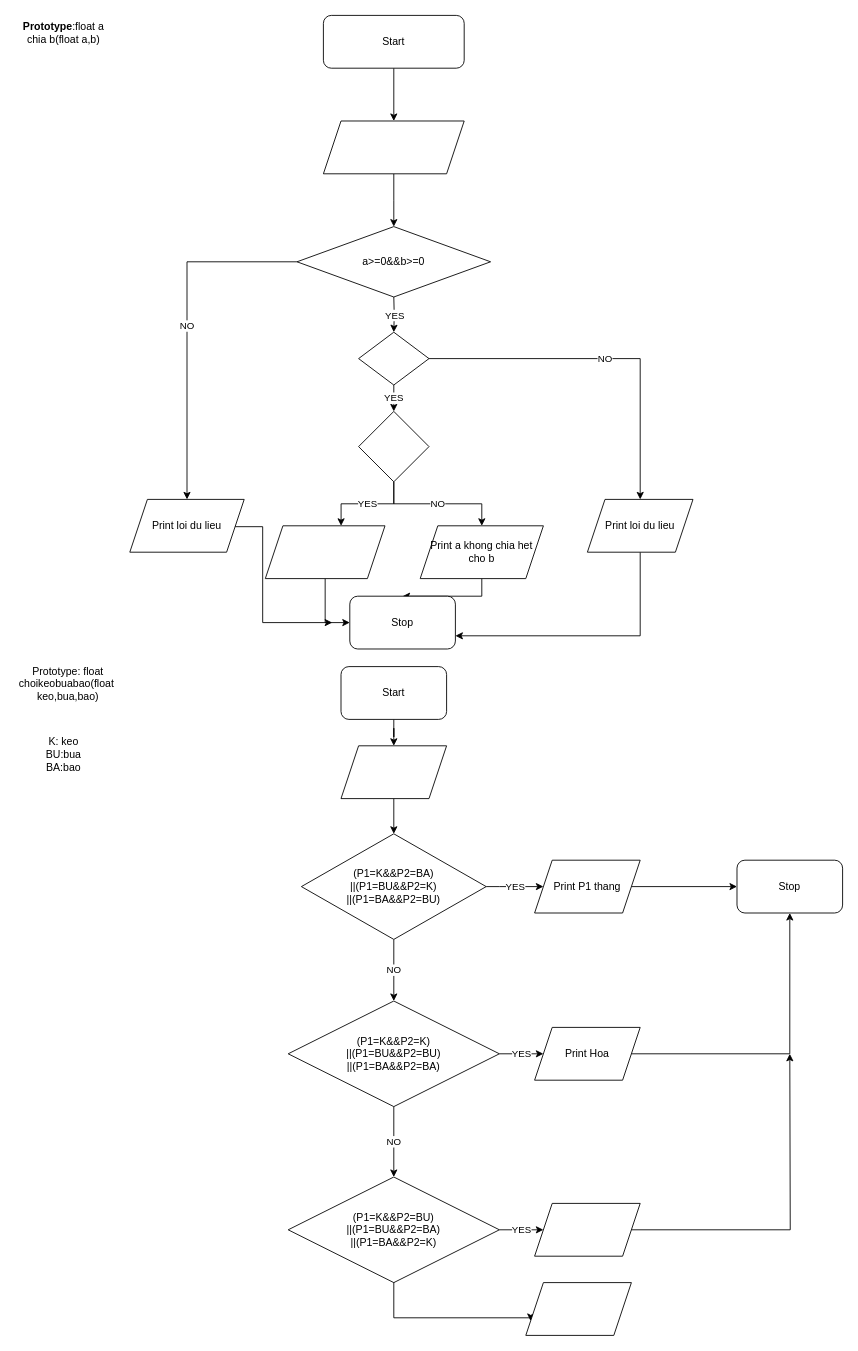
This 858x1351 diagram has some shape labels left out. The box of each missing label's shape, as (x1, y1, x2, y2) in pixels:
a mod b =0: (358, 411, 429, 482)
b!=0: (358, 331, 429, 385)
Input a,b: (323, 120, 464, 174)
Input P1,P2: (340, 745, 447, 799)
Print a chia het cho b: (264, 525, 385, 579)
Print loi cu phap: (525, 1282, 631, 1335)
Print P1 thua: (534, 1203, 640, 1256)
